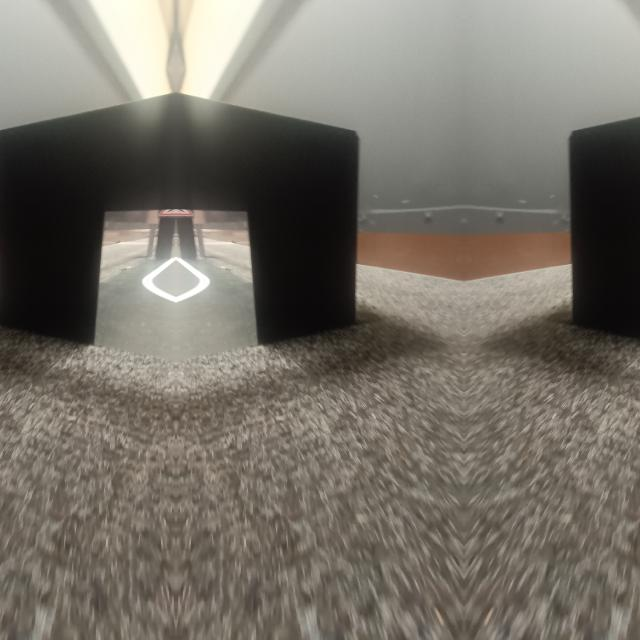obstacle: (175, 89, 365, 343), (0, 89, 175, 343), (562, 89, 640, 343)
